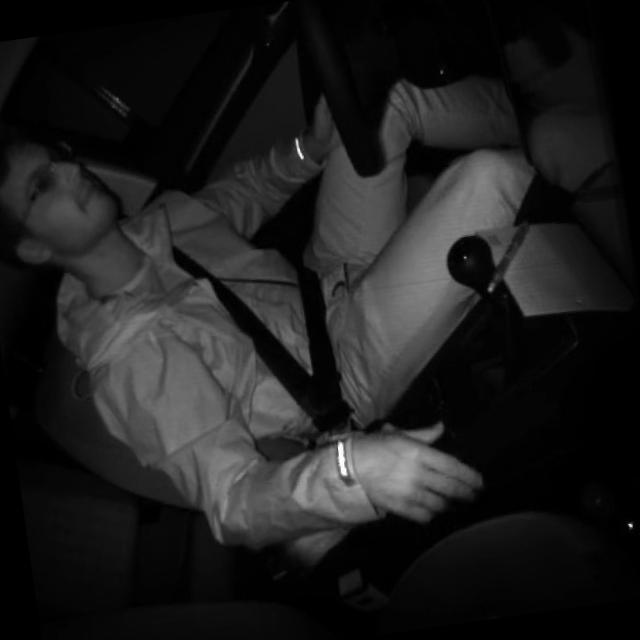pen: (476, 214, 542, 296)
